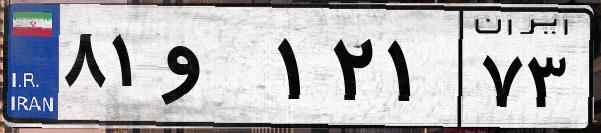1: (270, 28, 330, 110), (385, 28, 445, 110), (110, 28, 158, 98)
2: (330, 28, 385, 110)
3: (525, 38, 570, 115)
7: (475, 38, 525, 113)
8: (57, 26, 110, 100)
و: (158, 20, 270, 120)
